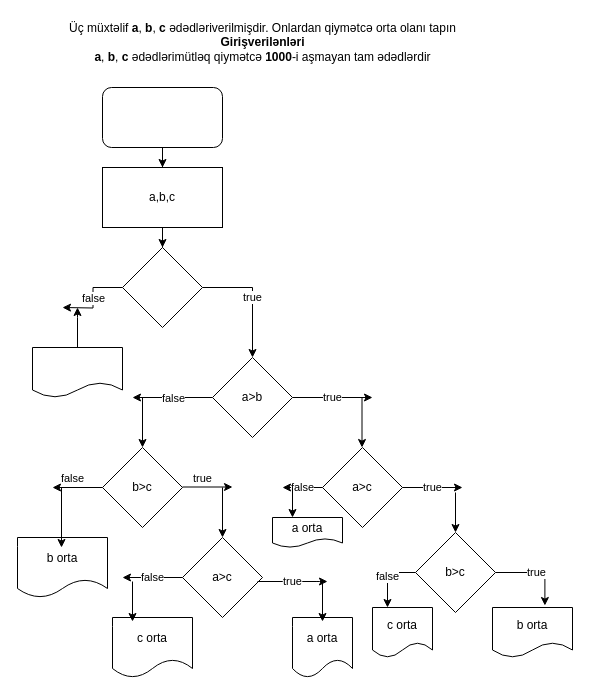
This 590x695 diagram has some shape labels left out. Each missing label, with the centre of its shape:
"a<=1000& b<=1000& c<=1000" goes at point (162, 287).
"proqram dayansin" goes at point (77, 372).
"start" goes at point (162, 117).
